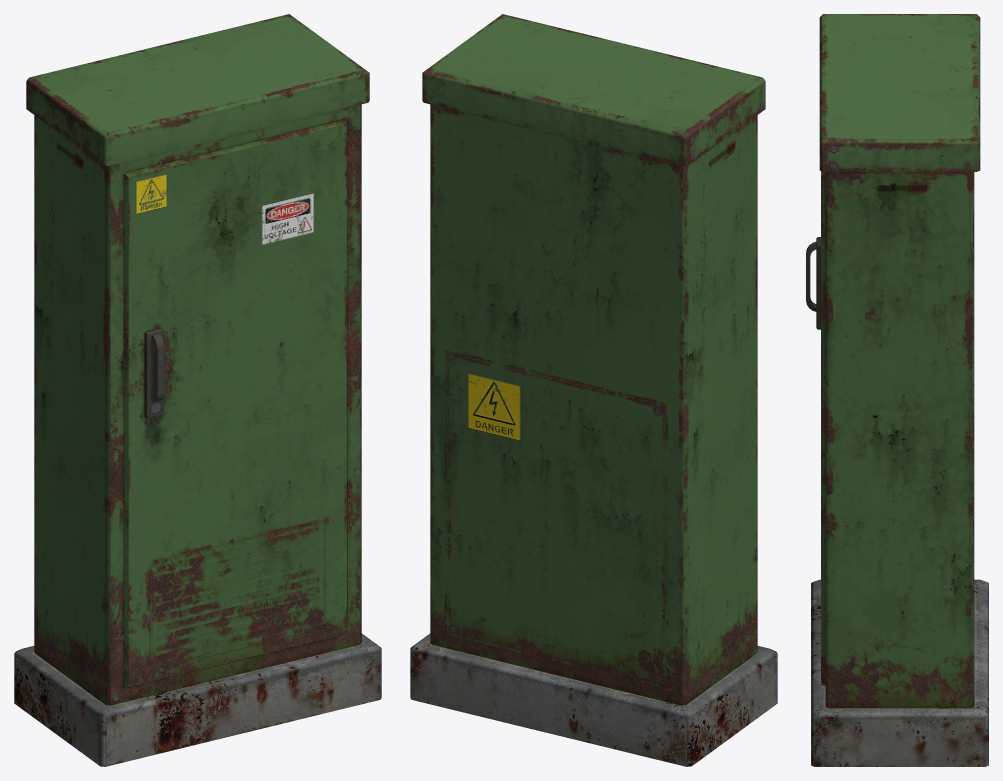
Rendered from Electr_box1.fbx.
3 views of the same model, side by side, from view 1: azimuth 30°, elevation 25°; view 2: azimuth 150°, elevation 25°; view 3: azimuth 270°, elevation 25° (orthographic).
Parts seen in each view (by area): view 1: polySurface330; view 2: polySurface330; view 3: polySurface330.
Boxes of the visible parts, left/top/right/bottom form: polySurface330: left=14, top=14, right=381, bottom=766; polySurface330: left=410, top=14, right=777, bottom=766; polySurface330: left=806, top=14, right=988, bottom=766.
Bounding box in the file's own units: 92.33 × 196 × 52.35.
